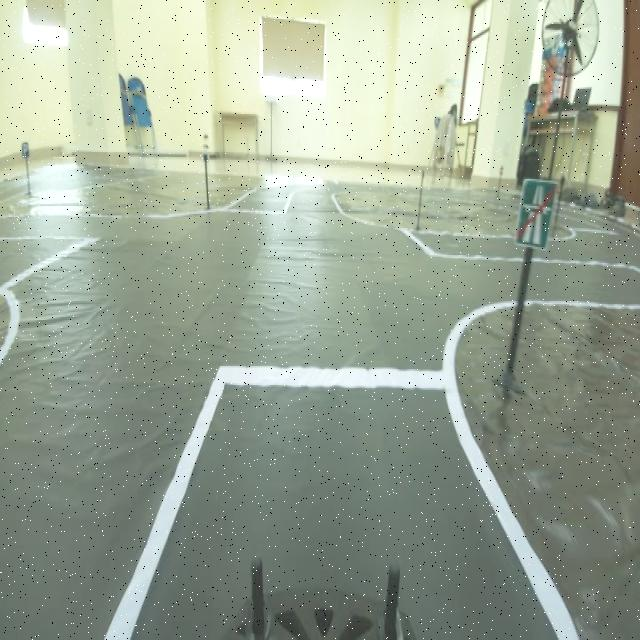highway_exit: (510, 162, 558, 267)
